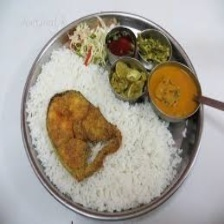sabzi: (151, 63, 201, 117)
